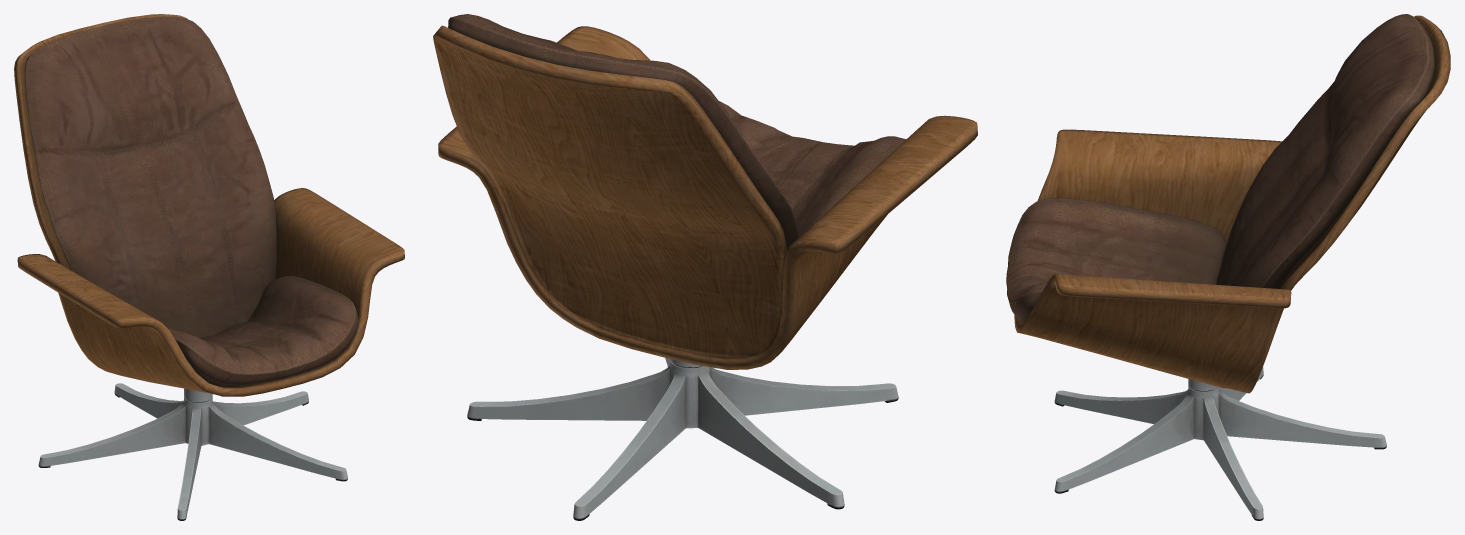
File: mid_century_lounge_chair.glb
3 renders of one model, left to right at view 1: azimuth 30°, elevation 25°; view 2: azimuth 150°, elevation 25°; view 3: azimuth 270°, elevation 25°, orthographic. The views are drawn at different scales.
Parts seen in each view (by area): view 1: mid_century_lounge_chair; view 2: mid_century_lounge_chair; view 3: mid_century_lounge_chair.
Boxes of the visible parts, <box> form: mid_century_lounge_chair: <box>14,14,404,520</box>; mid_century_lounge_chair: <box>433,14,977,520</box>; mid_century_lounge_chair: <box>1006,14,1450,520</box>.
Size of the model in its own units: 1.01 by 1.17 by 1.19.
1 material, 1 textured.
